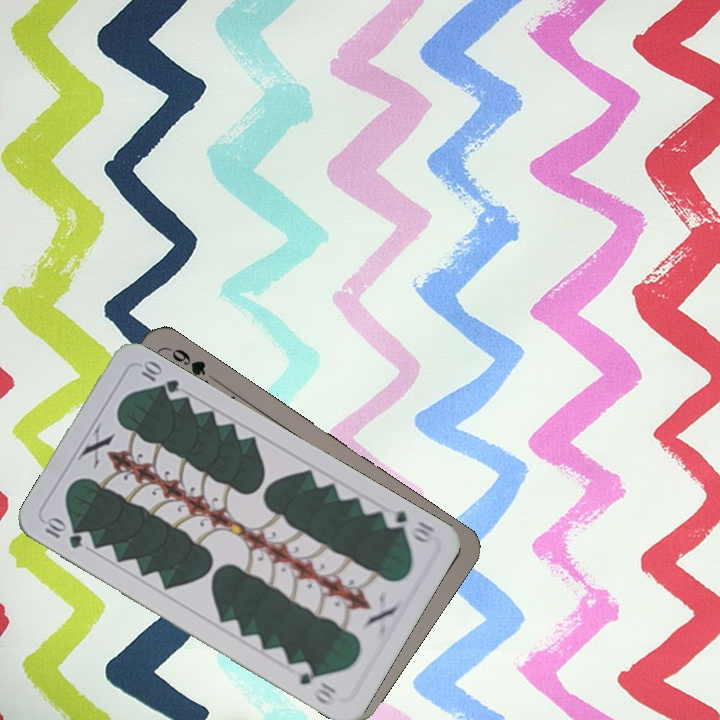G10: (379, 506, 439, 546), (40, 514, 85, 552)
